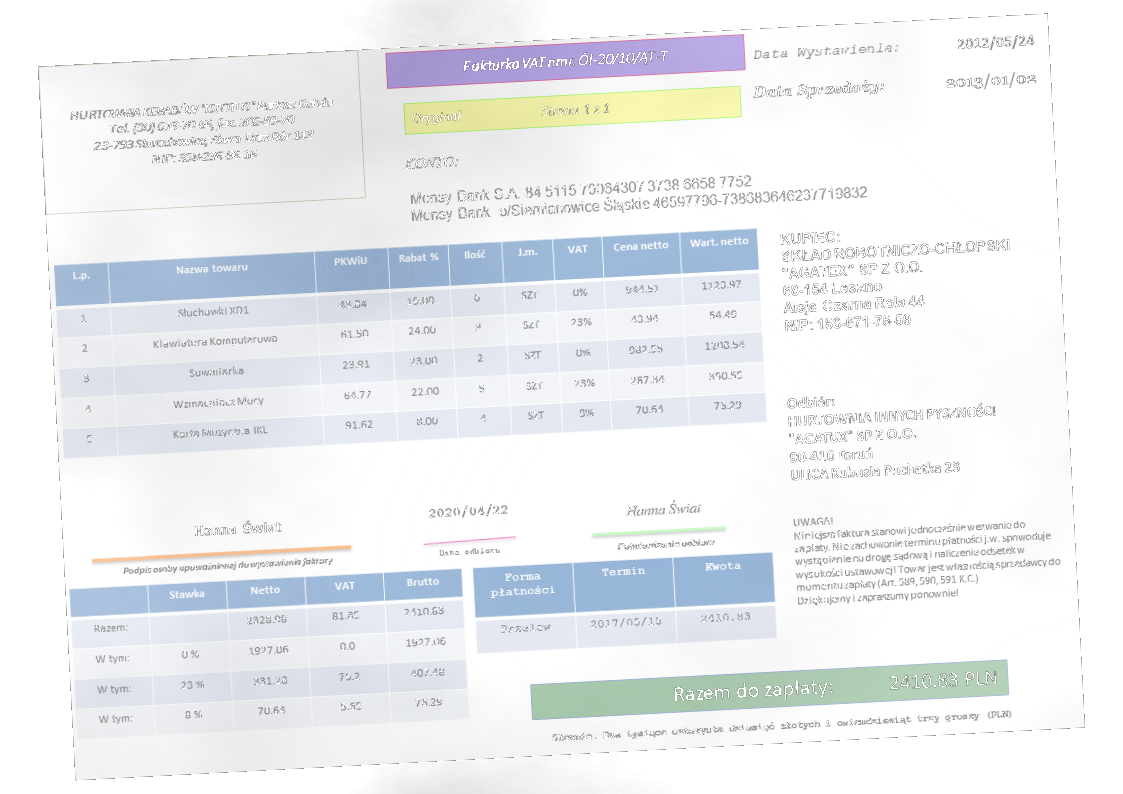Table: (52, 226, 770, 461), (66, 565, 473, 742), (471, 550, 777, 656)
TextBox: (789, 500, 1065, 609), (407, 162, 871, 226), (776, 217, 1016, 335), (783, 382, 1001, 485), (66, 93, 339, 172), (550, 705, 1014, 747), (670, 663, 1001, 707), (408, 98, 613, 129), (458, 46, 673, 75), (120, 552, 338, 578), (751, 75, 888, 106), (749, 39, 902, 64), (944, 68, 1042, 94), (189, 516, 285, 540), (424, 499, 512, 524), (953, 30, 1039, 55), (613, 535, 718, 554), (623, 497, 705, 520), (400, 150, 462, 173), (436, 543, 503, 559)
